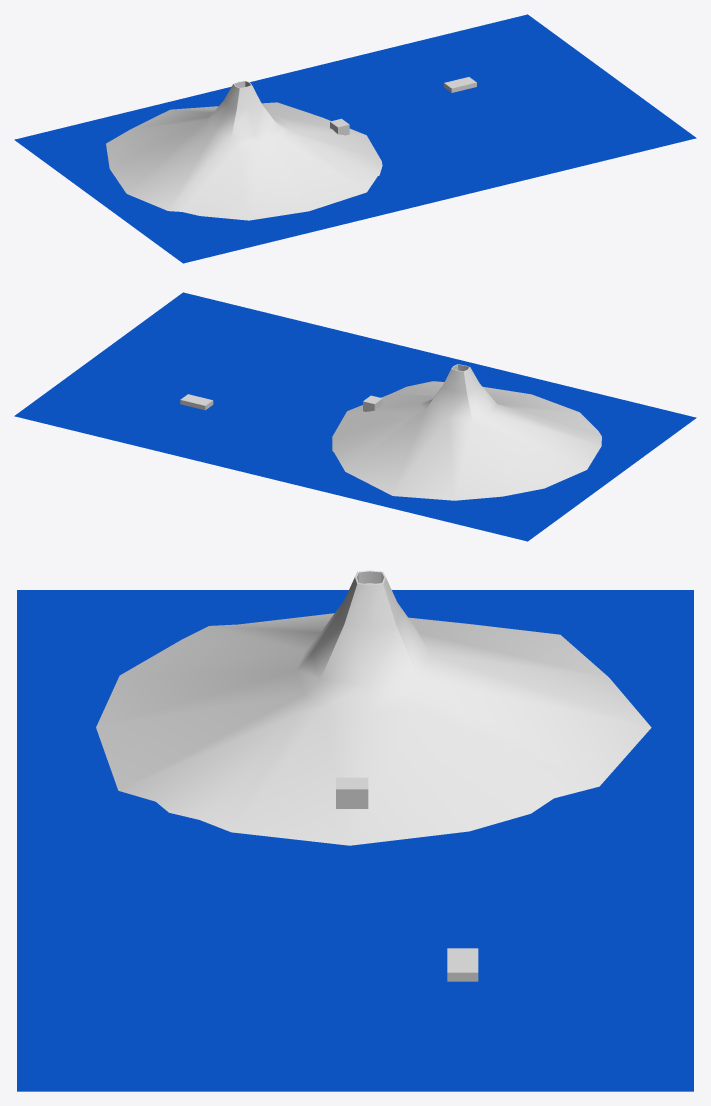
File: whitebox.fbx
The picture shows the model from 3 angles, top to bottom: view 1: azimuth 30°, elevation 25°; view 2: azimuth 150°, elevation 25°; view 3: azimuth 270°, elevation 25°; orthographic projection. The views are drawn at different scales.
Parts seen in each view (by area): view 1: Water, Volc_island; view 2: Water, Volc_island; view 3: Water, Volc_island, Boat_place_holder, cannon_place_holder.
Boxes of the visible parts, x1,y1,x2,y2 form: Water: (14,14,696,263); Volc_island: (106,80,382,220); Water: (14,292,696,541); Volc_island: (332,364,601,500); Water: (17,590,693,1091); Volc_island: (96,570,651,845); Boat_place_holder: (447,948,478,981); cannon_place_holder: (336,777,368,808).
Size of the model in its own units: 209 by 31.04 by 119.
